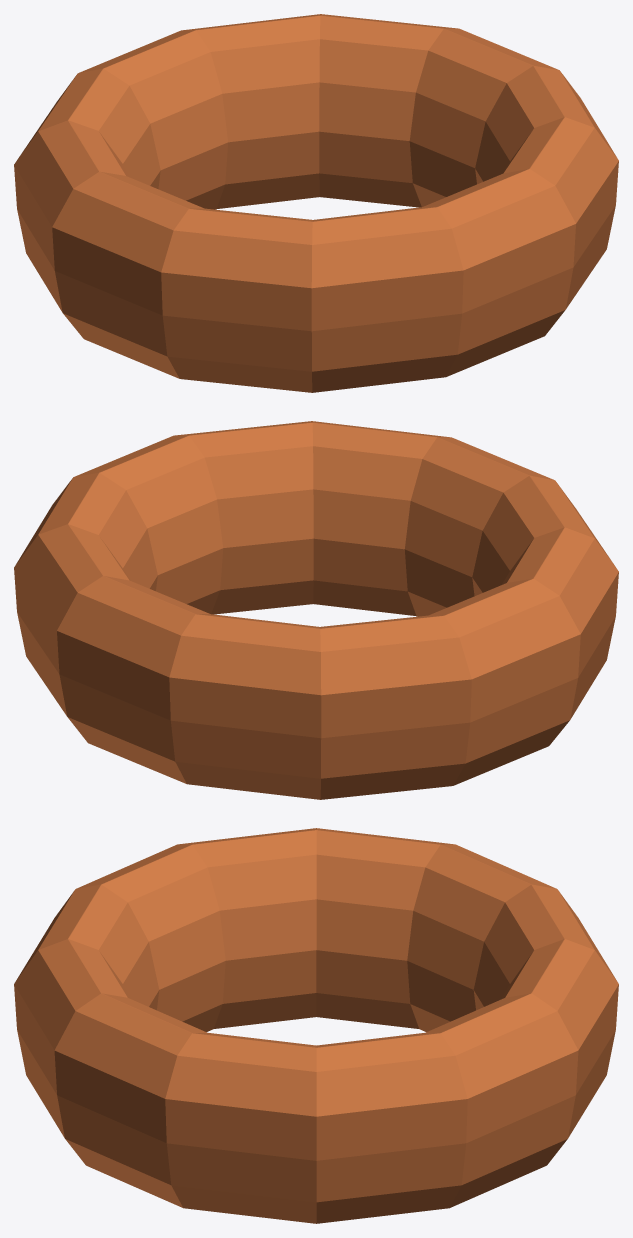
The picture shows the model from 3 angles, top to bottom: view 1: azimuth 30°, elevation 25°; view 2: azimuth 150°, elevation 25°; view 3: azimuth 270°, elevation 25°; orthographic projection. The views are drawn at different scales.
Parts seen in each view (by area): view 1: faceted_ring; view 2: faceted_ring; view 3: faceted_ring.
Boxes of the visible parts, box(x1,y1,x2,y2) form: faceted_ring: box(14, 14, 618, 392); faceted_ring: box(14, 421, 618, 799); faceted_ring: box(14, 828, 618, 1223).
Size of the model in its own units: 0.1 by 0.0316 by 0.0964.
